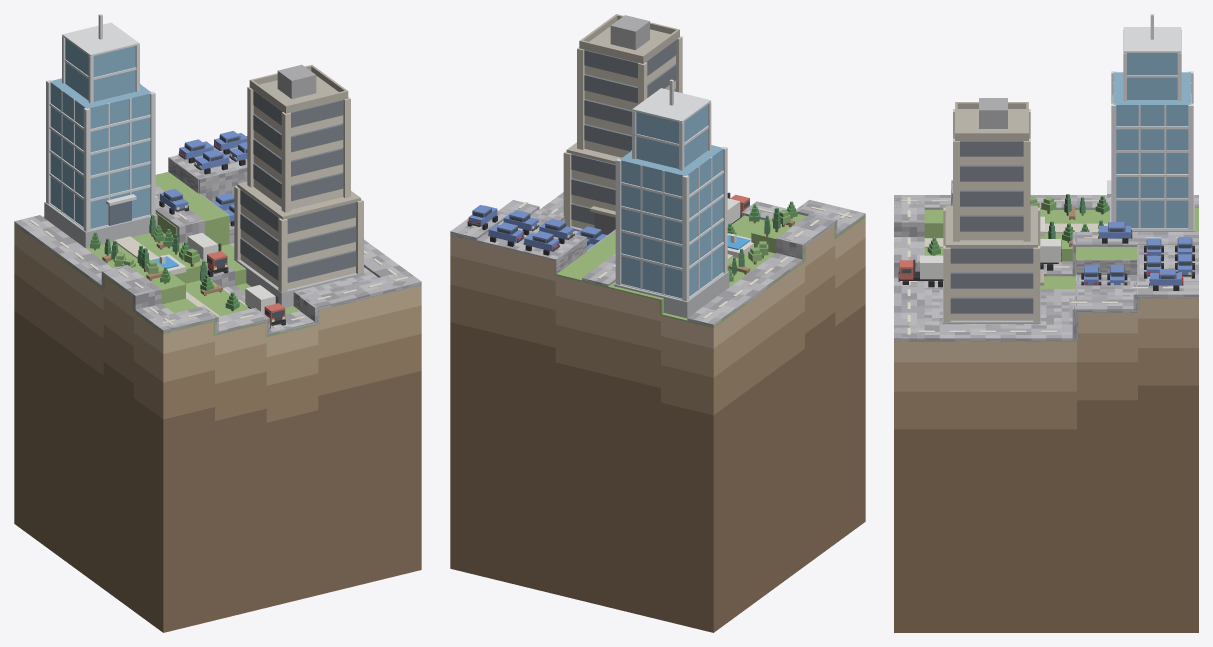
File: block_8_permeable_45.glb
3 renders of one model, left to right at view 1: azimuth 30°, elevation 25°; view 2: azimuth 150°, elevation 25°; view 3: azimuth 270°, elevation 25°, orthographic. The views are drawn at different scales.
Parts seen in each view (by area): view 1: Patch_UpperLeft_b05_PP, Commercial_UpperLeft_PP, Roads_UpperLeft_b05_PP, Green_UpperLeft_j5_PP, Park_UpperLeft_PP, ULCar_025_PP, ULCar_024_PP, RoadMarks_UpperLeft_b05_PP, ULPark_Car02.001_PP; view 2: Patch_UpperLeft_b05_PP, Commercial_UpperLeft_PP, Roads_UpperLeft_b05_PP, Green_UpperLeft_j5_PP, Park_UpperLeft_PP, ULPark_Car00_PP, ULPark_Car00.001_PP; view 3: Patch_UpperLeft_b05_PP, Commercial_UpperLeft_PP, Roads_UpperLeft_b05_PP, Green_UpperLeft_j5_PP, ULCar_025_PP, RoadMarks_UpperLeft_b05_PP, Park_UpperLeft_PP, ULCar_024_PP, ULCar_013_PP, ULCar_023_PP.
Part boxes in pixels (x1=…): Patch_UpperLeft_b05_PP: x1=14, y1=225, x2=421, y2=632; Commercial_UpperLeft_PP: x1=44, y1=14, x2=364, y2=307; Roads_UpperLeft_b05_PP: x1=14, y1=136, x2=421, y2=336; Green_UpperLeft_j5_PP: x1=14, y1=147, x2=421, y2=337; Park_UpperLeft_PP: x1=86, y1=233, x2=248, y2=316; ULCar_025_PP: x1=245, y1=285, x2=285, y2=328; ULCar_024_PP: x1=187, y1=233, x2=228, y2=276; RoadMarks_UpperLeft_b05_PP: x1=29, y1=196, x2=408, y2=327; ULPark_Car02.001_PP: x1=194, y1=149, x2=229, y2=174; Patch_UpperLeft_b05_PP: x1=450, y1=217, x2=865, y2=632; Commercial_UpperLeft_PP: x1=563, y1=14, x2=729, y2=318; Roads_UpperLeft_b05_PP: x1=450, y1=192, x2=865, y2=327; Green_UpperLeft_j5_PP: x1=450, y1=210, x2=865, y2=328; Park_UpperLeft_PP: x1=727, y1=216, x2=794, y2=286; ULPark_Car00_PP: x1=488, y1=222, x2=524, y2=246; ULPark_Car00.001_PP: x1=523, y1=231, x2=559, y2=255; Patch_UpperLeft_b05_PP: x1=894, y1=298, x2=1198, y2=632; Commercial_UpperLeft_PP: x1=943, y1=14, x2=1194, y2=323; Roads_UpperLeft_b05_PP: x1=894, y1=180, x2=1198, y2=341; Green_UpperLeft_j5_PP: x1=894, y1=208, x2=1198, y2=341; ULCar_025_PP: x1=898, y1=255, x2=943, y2=287; RoadMarks_UpperLeft_b05_PP: x1=901, y1=197, x2=1178, y2=335; Park_UpperLeft_PP: x1=924, y1=206, x2=1108, y2=255; ULCar_024_PP: x1=1040, y1=239, x2=1061, y2=270; ULCar_013_PP: x1=1149, y1=269, x2=1183, y2=290; ULCar_023_PP: x1=1098, y1=222, x2=1132, y2=243.
Bounding box in the file's own units: 9.5 × 17.92 × 9.5.
